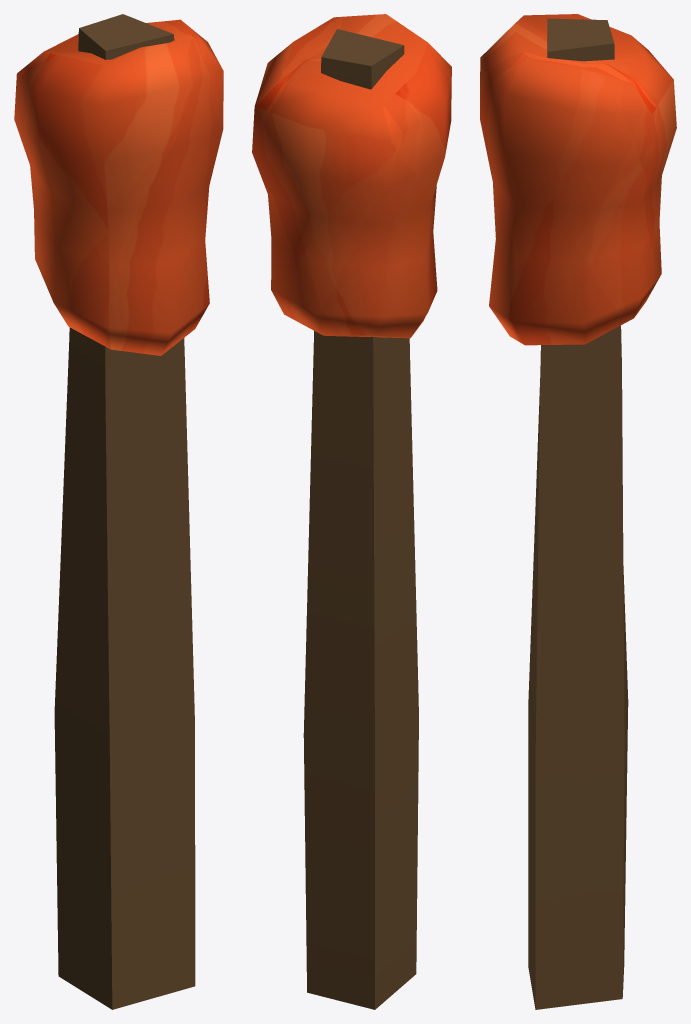
Rendered from Torch.fbx.
The picture shows the model from 3 angles, left to right: view 1: azimuth 30°, elevation 25°; view 2: azimuth 150°, elevation 25°; view 3: azimuth 270°, elevation 25°; orthographic projection.
Visible parts, largest first — view 1: Torch; view 2: Torch; view 3: Torch.
Part boxes in pixels (box(x1,y1,x2,y2)): Torch: box(14, 14, 223, 1009); Torch: box(252, 14, 451, 1009); Torch: box(480, 14, 676, 1009).
Bounding box in the file's own units: 29.45 × 154 × 28.65.
